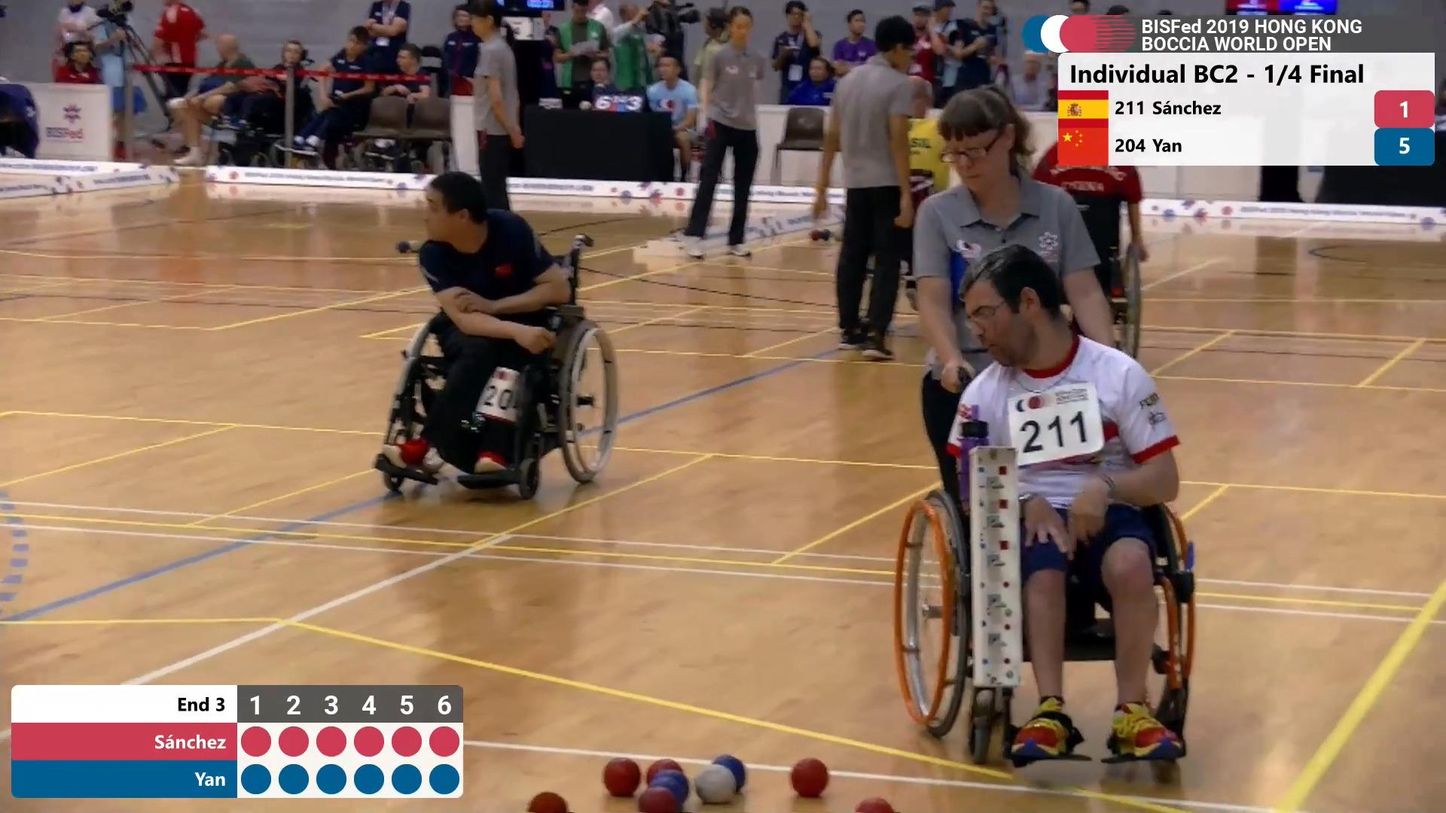blue_ball: (722, 755, 748, 786)
red_ball: (791, 758, 828, 797), (603, 758, 641, 794), (641, 788, 675, 811), (528, 793, 567, 813), (858, 799, 892, 813)
white_ball: (696, 765, 737, 802)
